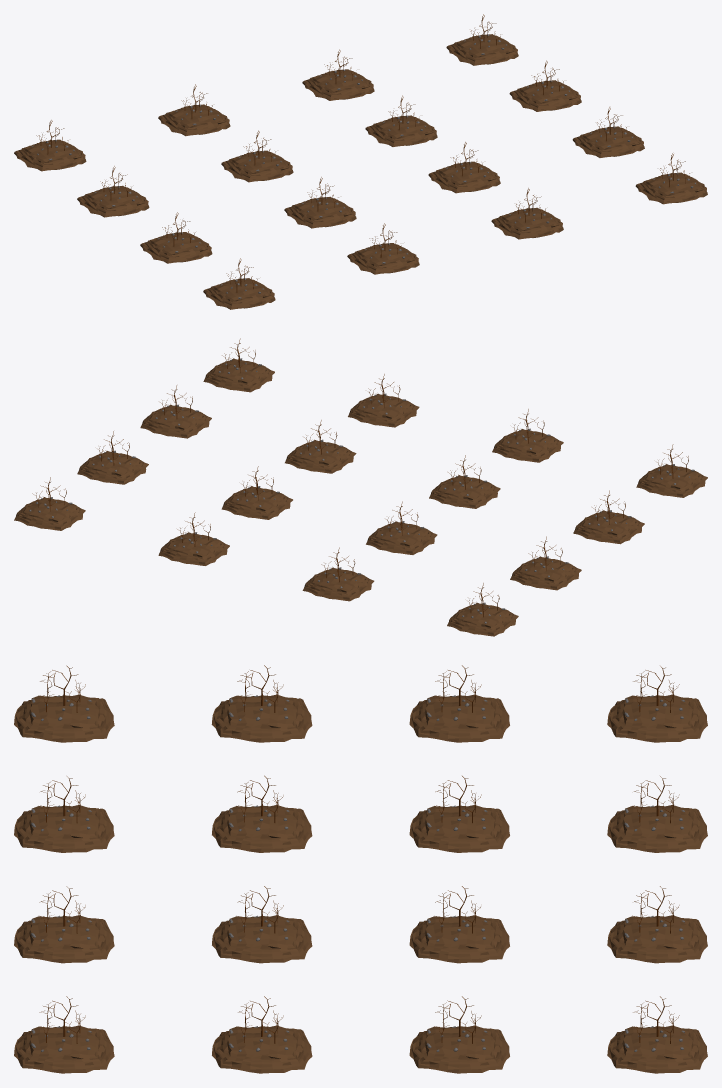
Rendered from dead state.fbx.
3 views of the same model, one above another, from view 1: azimuth 30°, elevation 25°; view 2: azimuth 150°, elevation 25°; view 3: azimuth 270°, elevation 25° (orthographic). The views are drawn at different scales.
Parts seen in each view (by area): view 1: dead state; view 2: dead state; view 3: dead state.
Boxes of the visible parts, x1=… form: dead state: x1=14, y1=14, x2=707, y2=309; dead state: x1=14, y1=338, x2=707, y2=636; dead state: x1=14, y1=665, x2=707, y2=1073.
Bounding box in the file's own units: 754 × 53.26 × 592.
